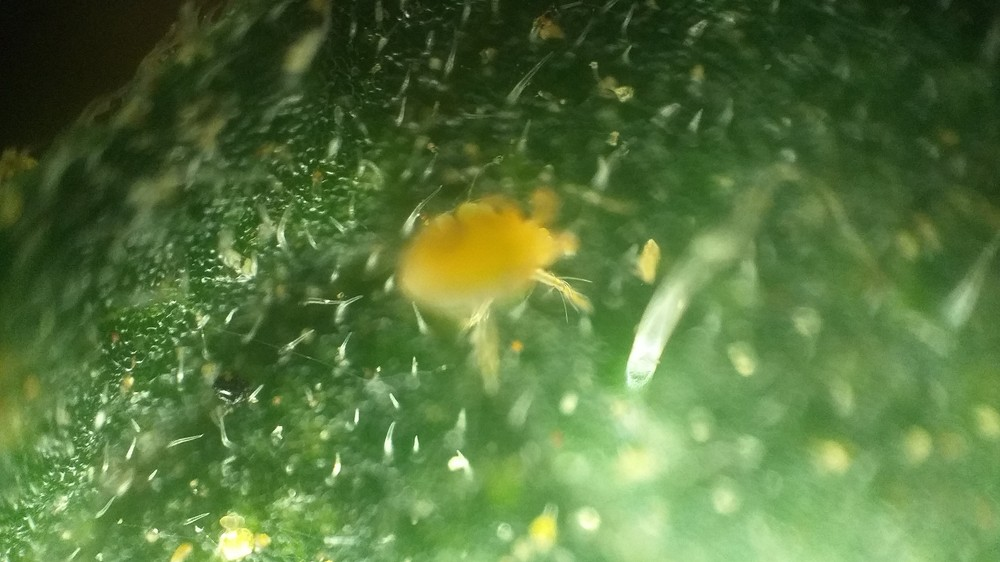Aracnido Rojo: (365, 158, 635, 374)
